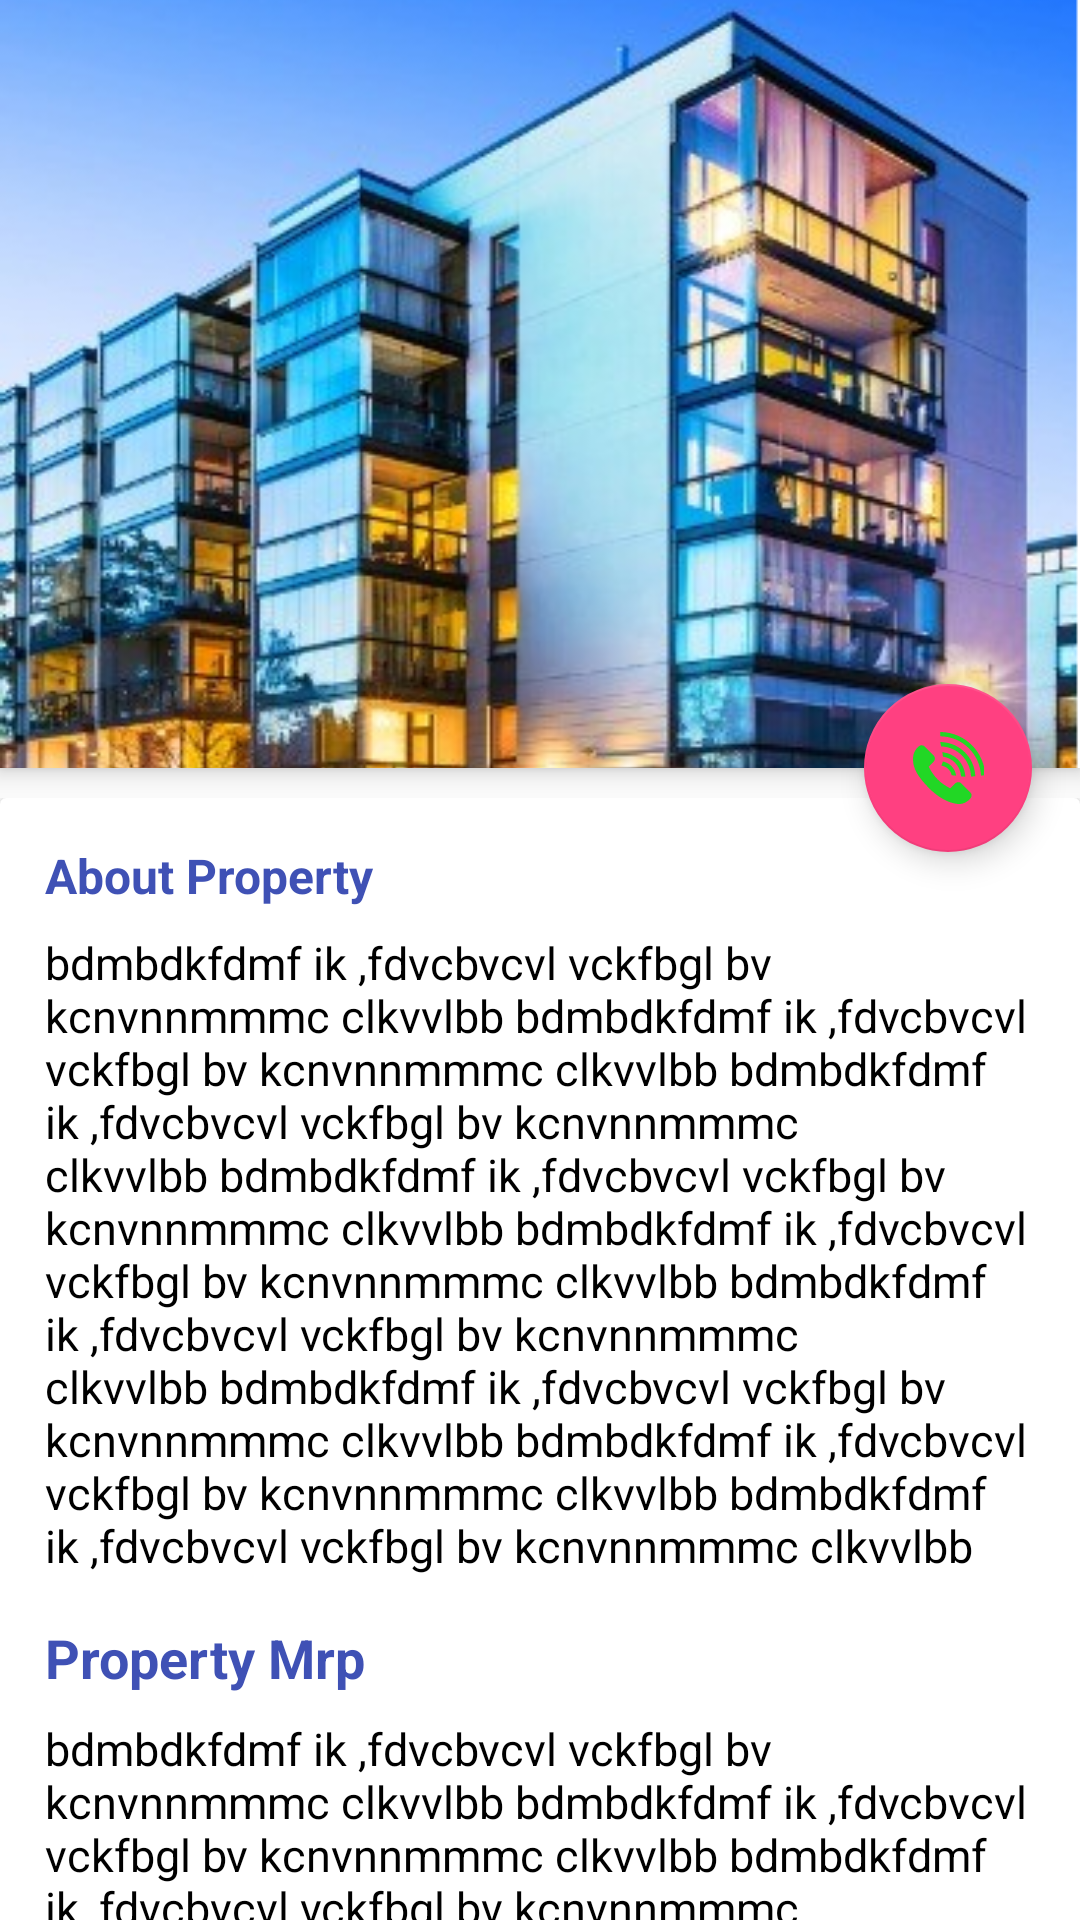

Icon click points for this 1080 x 1920 phone screenshot, format point (x, y):
call volume: point (948, 768)
